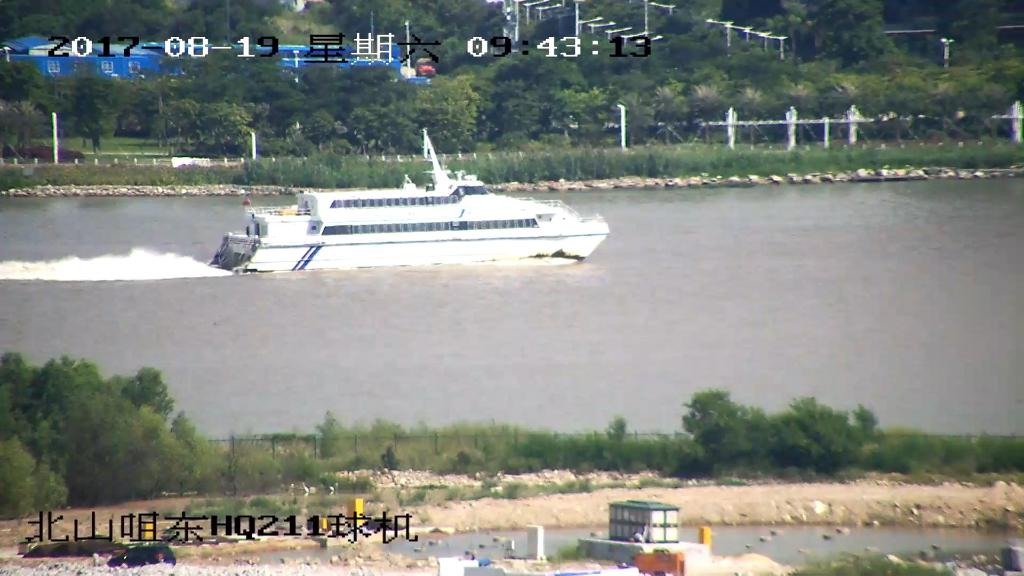PassengerShip: (206, 132, 620, 280)
